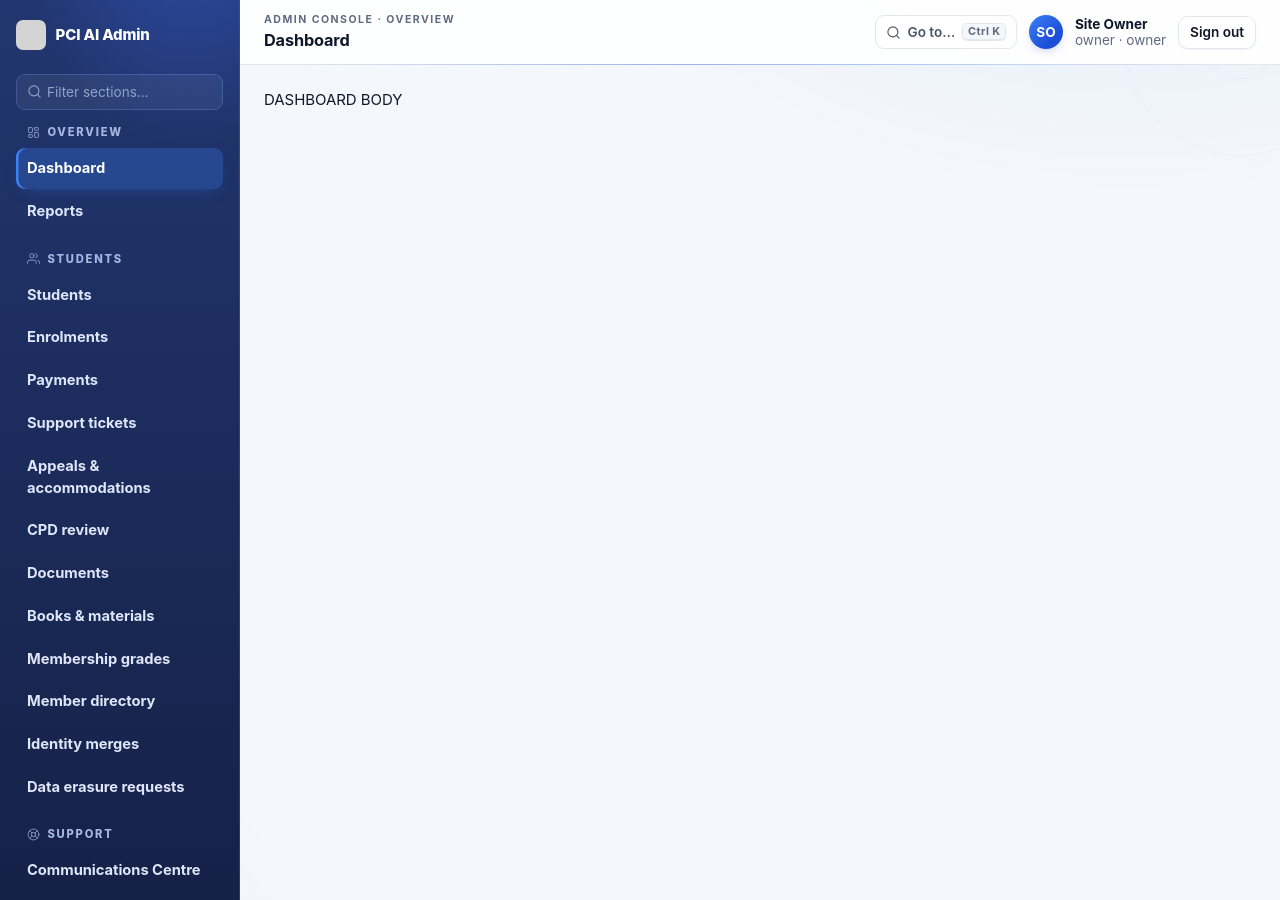
Test case: AdminLayout premium shell › quick-filter narrows the sidebar to matching sections
Expected: the link "Students" is shown, [27,286,92,304]
Type "audit" into the field labelled "Filter sections" at (120, 92), box [16,74,223,110]
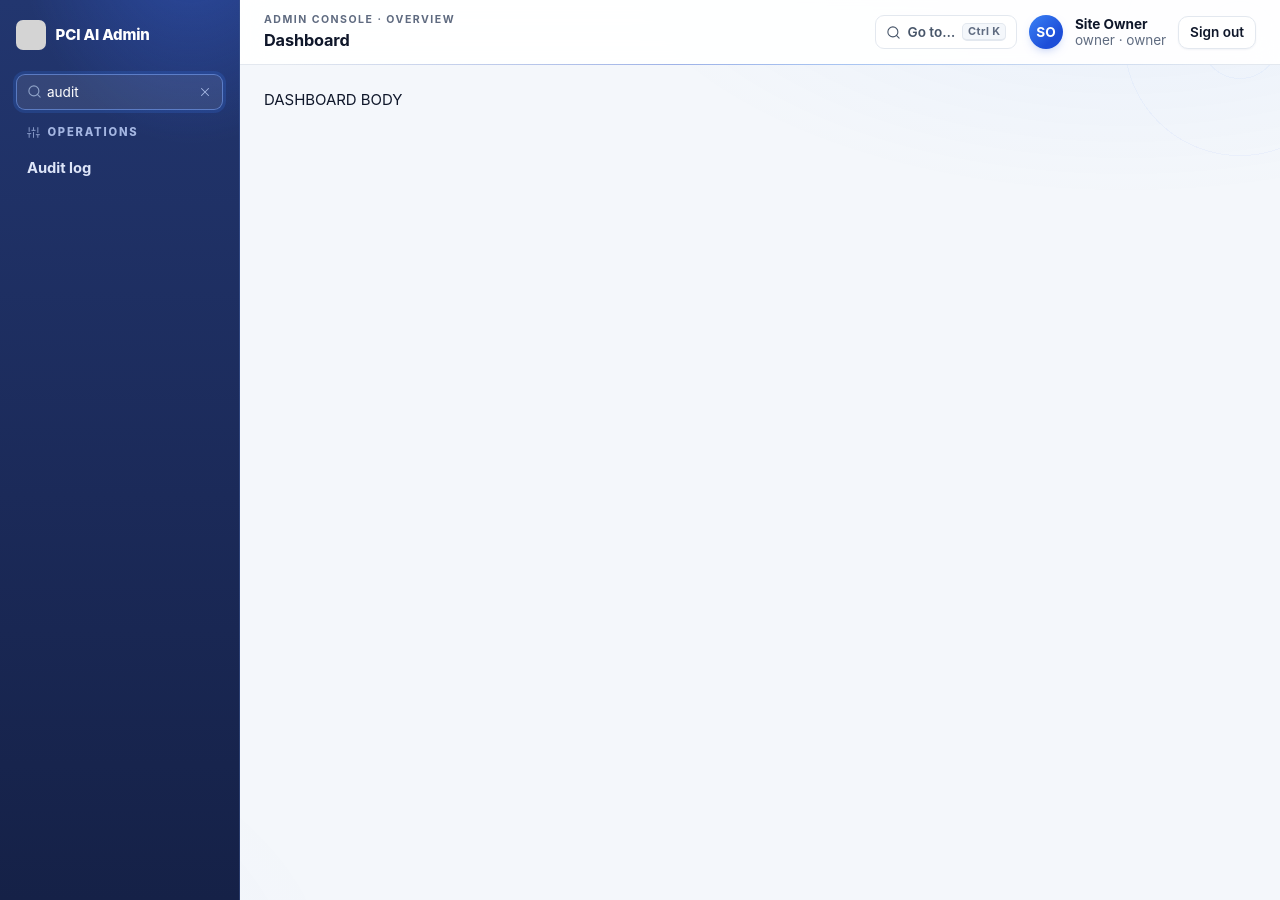
Expected: the link "Audit log" is shown, [27,160,91,178]
Expected: the link "Students" is gone
// clearing restores the full nav
Click the button named "Clear filter" at (205, 92), box [194,81,216,103]
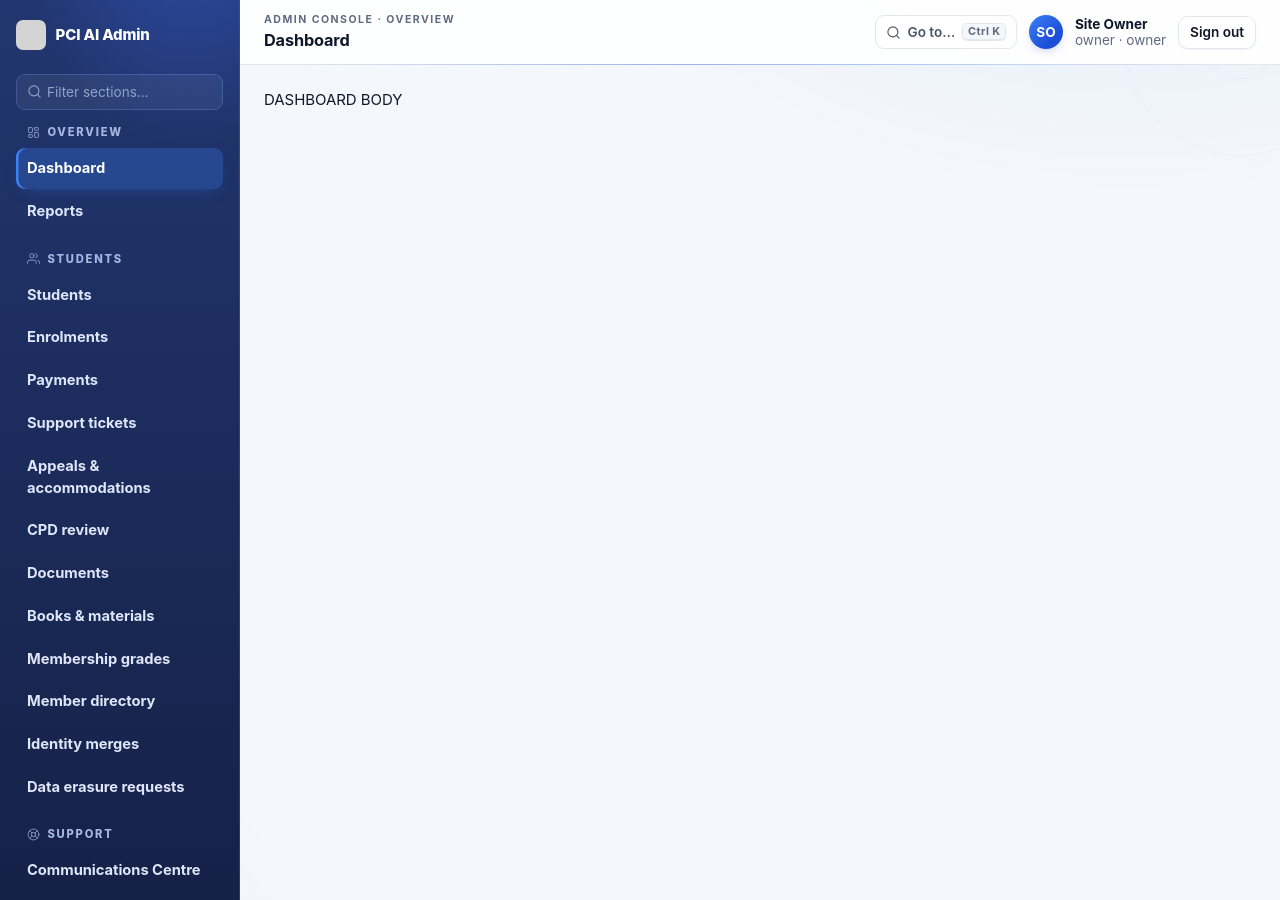
Expected: the link "Students" is shown, [27,286,92,304]
